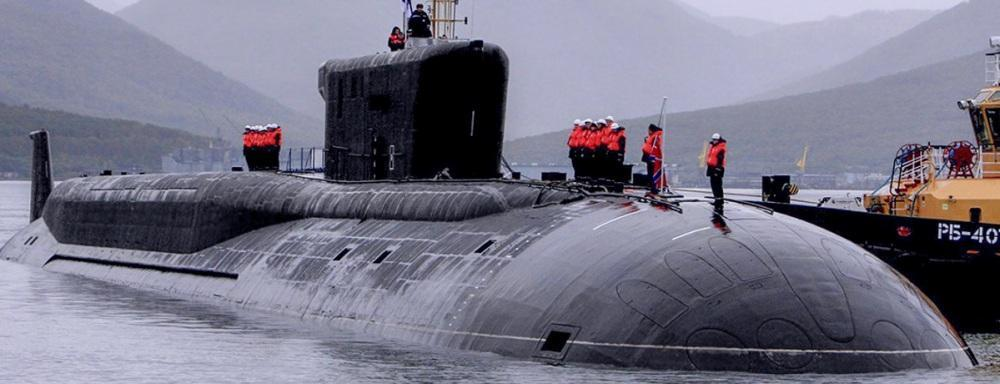Submarine: (0, 0, 984, 384)
